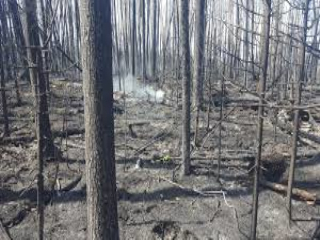smoke: (118, 73, 173, 107)
